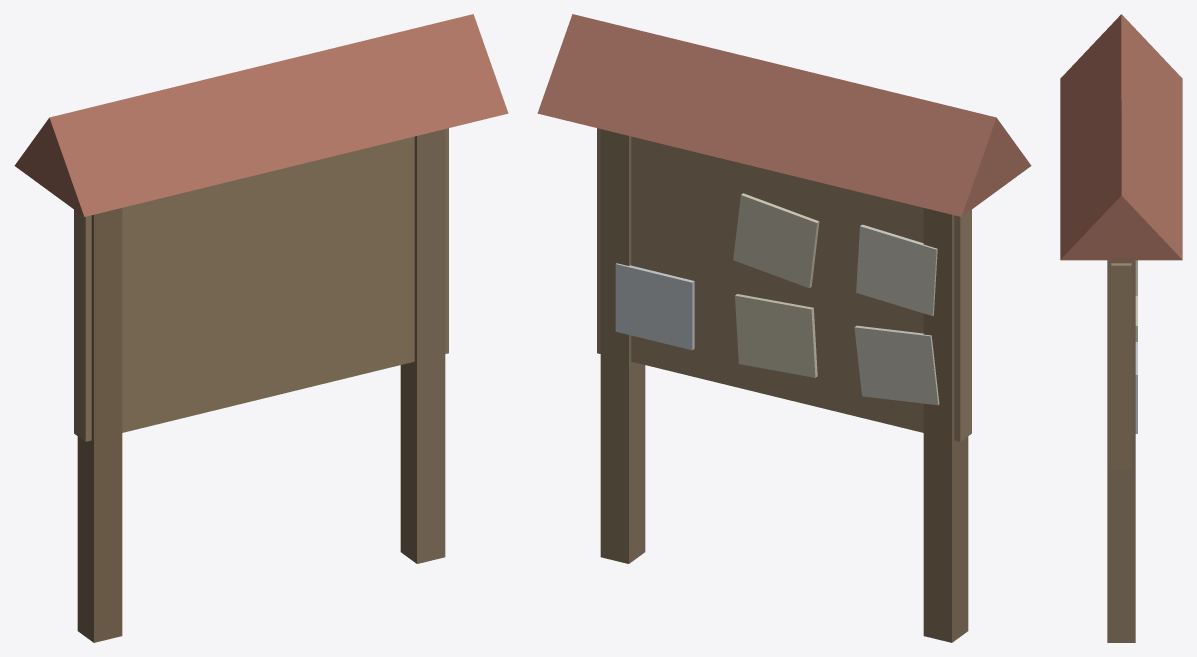
File: notice_board.glb
The picture shows the model from 3 angles, left to right: view 1: azimuth 30°, elevation 25°; view 2: azimuth 150°, elevation 25°; view 3: azimuth 270°, elevation 25°; orthographic projection. The views are drawn at different scales.
Parts seen in each view (by area): view 1: notice_board2; view 2: notice_board2; view 3: notice_board2.
Part boxes in pixels (left/top/right/bottom): notice_board2: left=14, top=14, right=508, bottom=642; notice_board2: left=537, top=14, right=1031, bottom=642; notice_board2: left=1060, top=14, right=1182, bottom=642.
Bounding box in the file's own units: 2.1 × 2.5 × 0.6.
